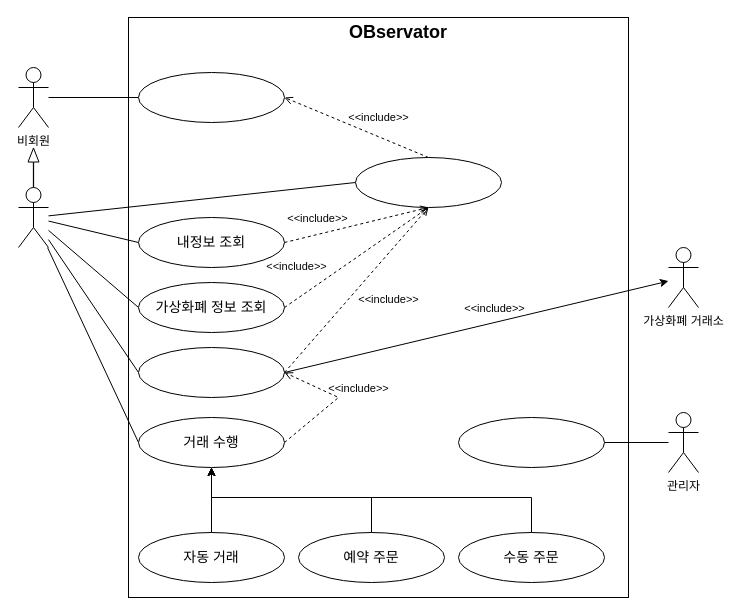
Some shapes in this 741 by 615 pixel diagram are drawn without their labels. Here are the shapes that lost their labels. From the top down, the centre of each, then its label:
At [211,97]: "회원가입".
At [428,182]: "로그인".
At [33,217]: "회원".
At [211,372]: "거래 키 발급".
At [531,442]: "ML 모델 학습".
